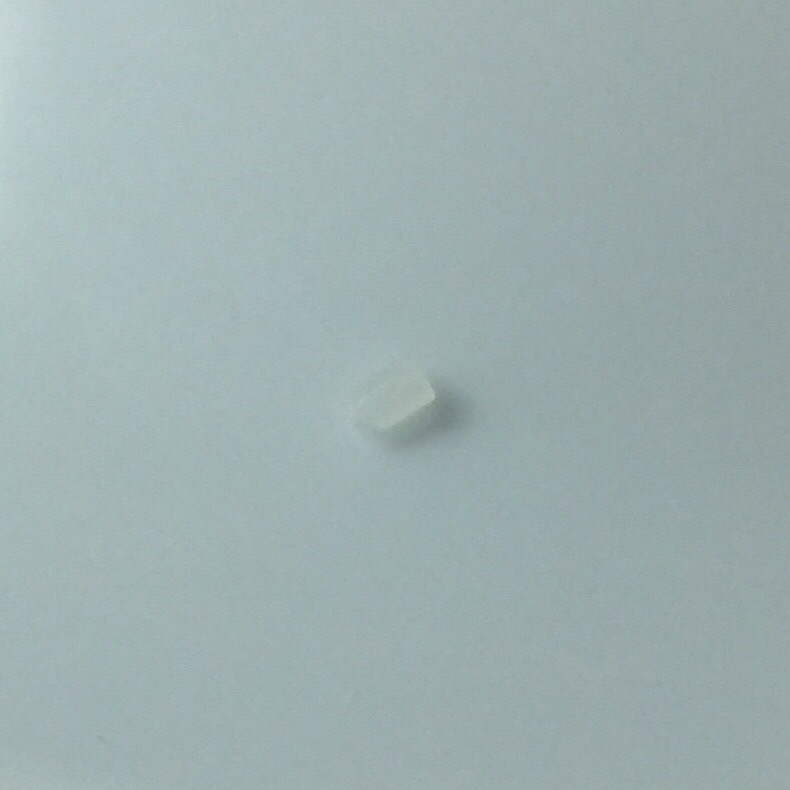Gao Tam: (358, 353, 442, 444)
